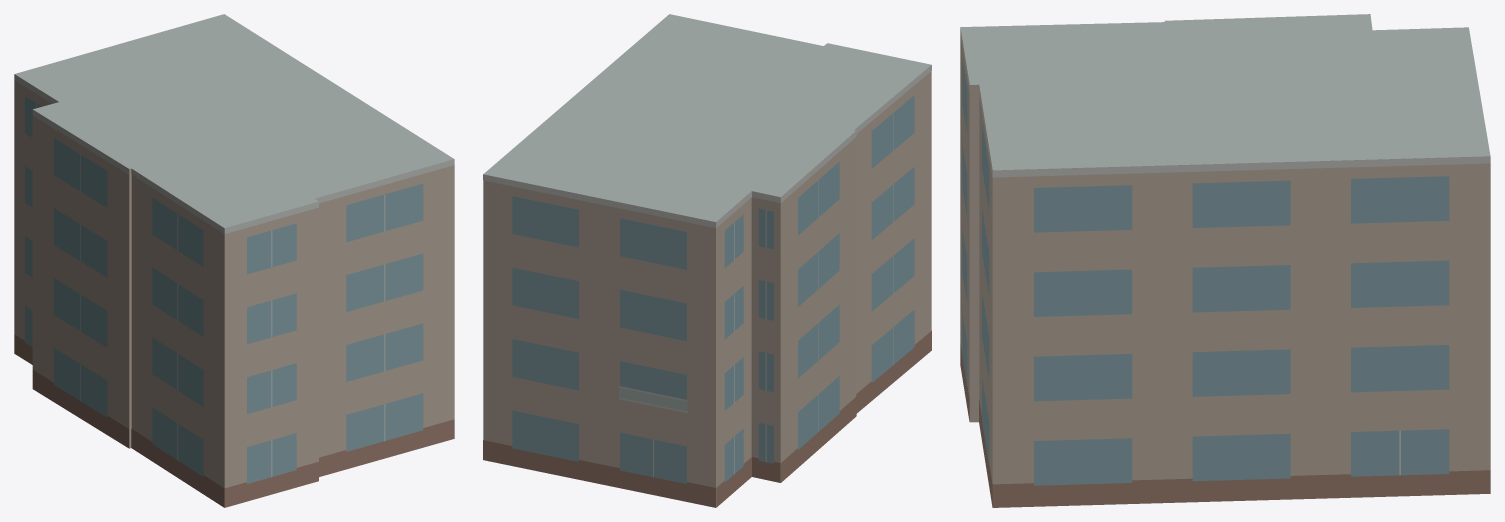
File: survey-upis-32900959.glb
3 views of the same model, side by side, from view 1: azimuth 30°, elevation 25°; view 2: azimuth 150°, elevation 25°; view 3: azimuth 270°, elevation 25° (orthographic). The views are drawn at different scales.
Parts seen in each view (by area): view 1: survey-upis-32900959.tmp; view 2: survey-upis-32900959.tmp; view 3: survey-upis-32900959.tmp.
Part boxes in pixels (x1,y1,x2,y2): survey-upis-32900959.tmp: (14, 14, 454, 507); survey-upis-32900959.tmp: (483, 14, 931, 507); survey-upis-32900959.tmp: (960, 14, 1490, 507).
Size of the model in its own units: 11.44 by 11.5 by 16.39.
